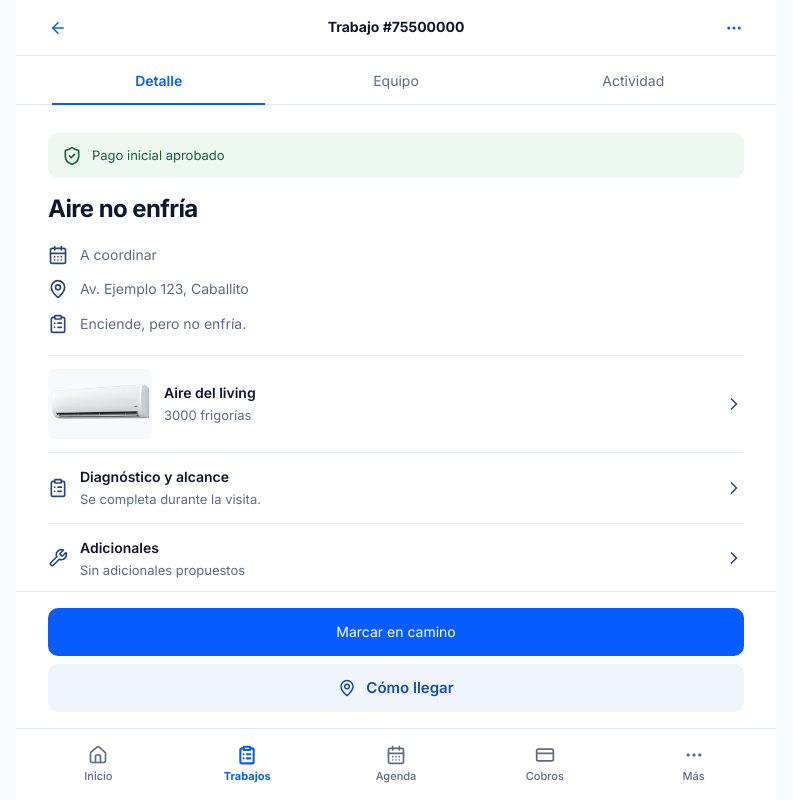
approved compact professional job workspace › removes previously loaded customer information when assignment access is revoked
Expected: the heading "Aire no enfría" is shown, [48,194,198,223]
What coordinates should you click on to do the following:
click the button named "Opciones del trabajo"
I would click on:
 (734, 28)
Its box is [712,6,756,50].
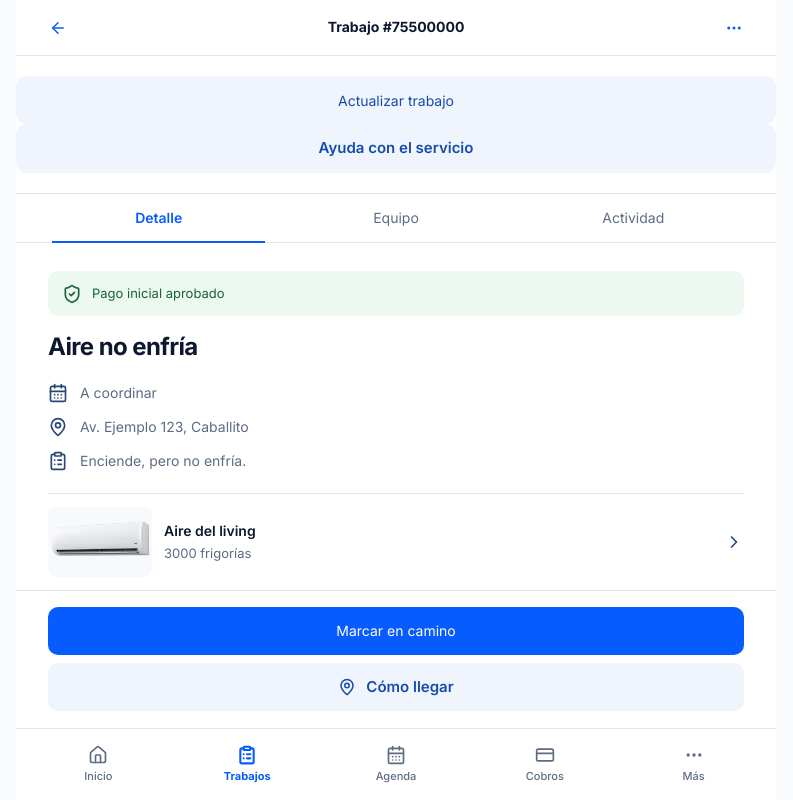
What coordinates should you click on to do the following:
click the button "Actualizar trabajo"
I would click on:
 (396, 100)
Its box is [16,76,776,124].
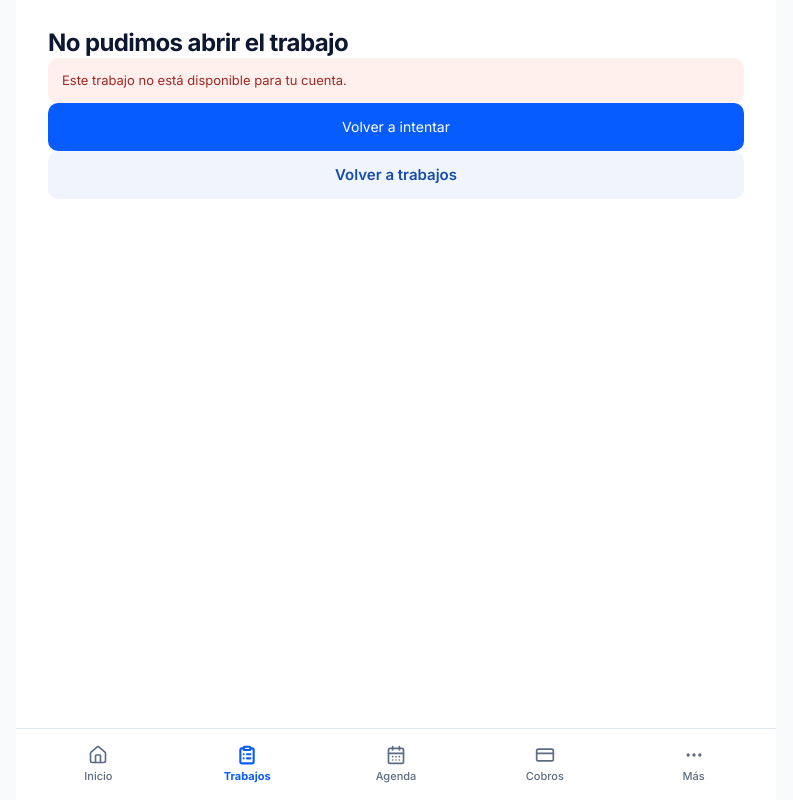
Expected: the heading "No pudimos abrir el trabajo" is shown, [48,28,348,57]
Expected: the button "Aire del living" is gone
Expected: the text "Av. Ejemplo 123, Caballito" is gone
